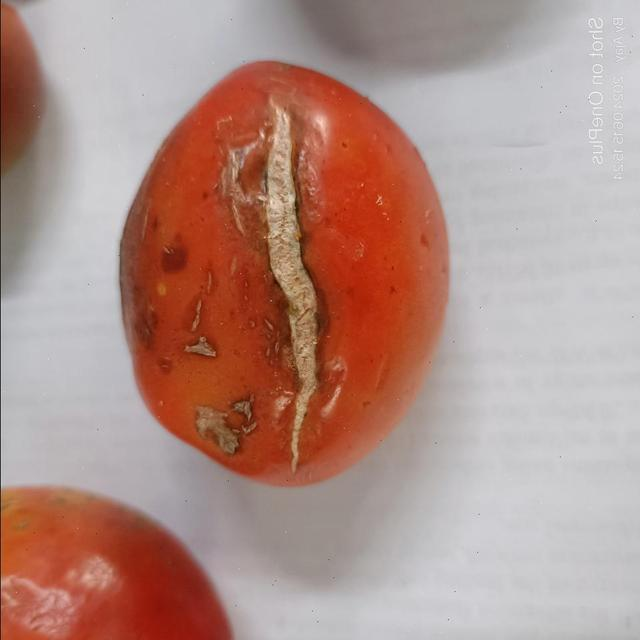Cracking Fruit: (85, 68, 282, 321)
